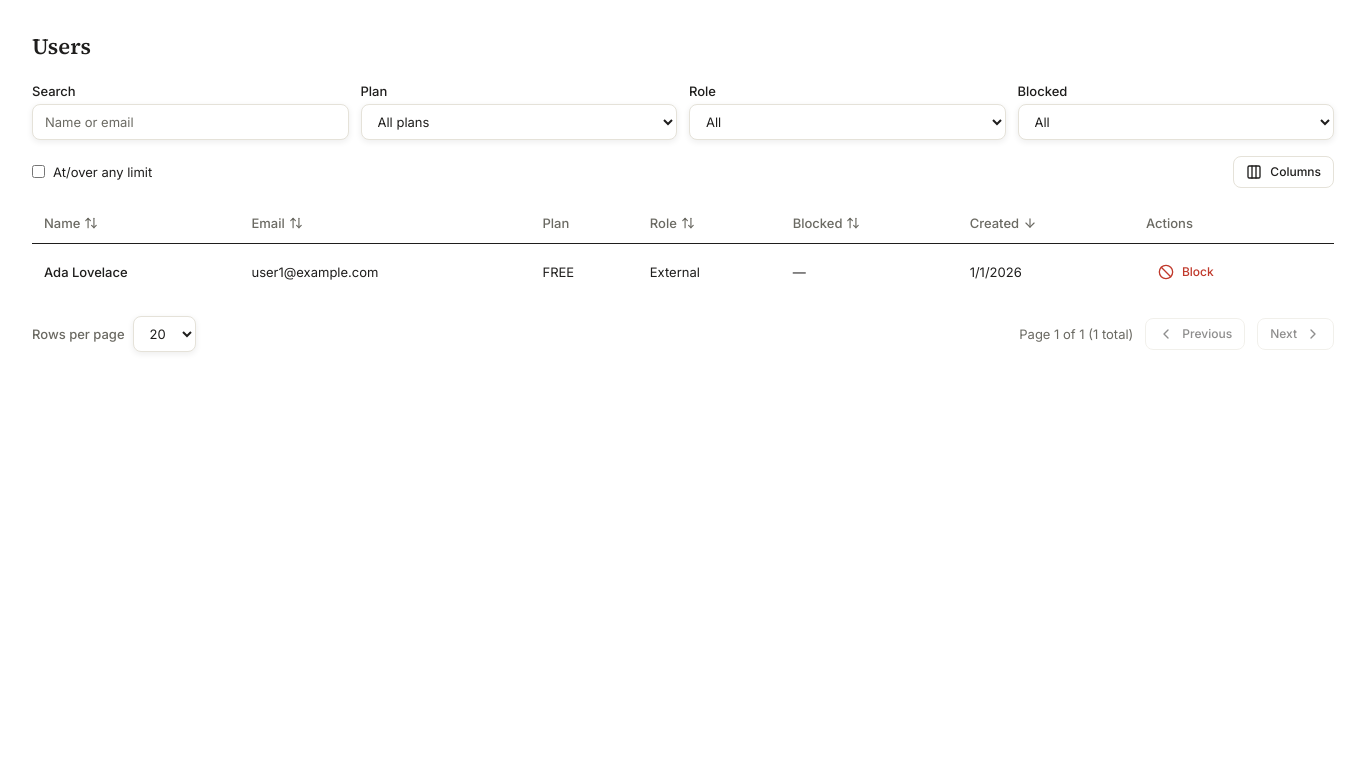
Test: AdminUsersPage › shows the audit history tab with resolved actor info
Click the text "Ada Lovelace". click: (86, 272)
box: x1=32 y1=244 x2=240 y2=300
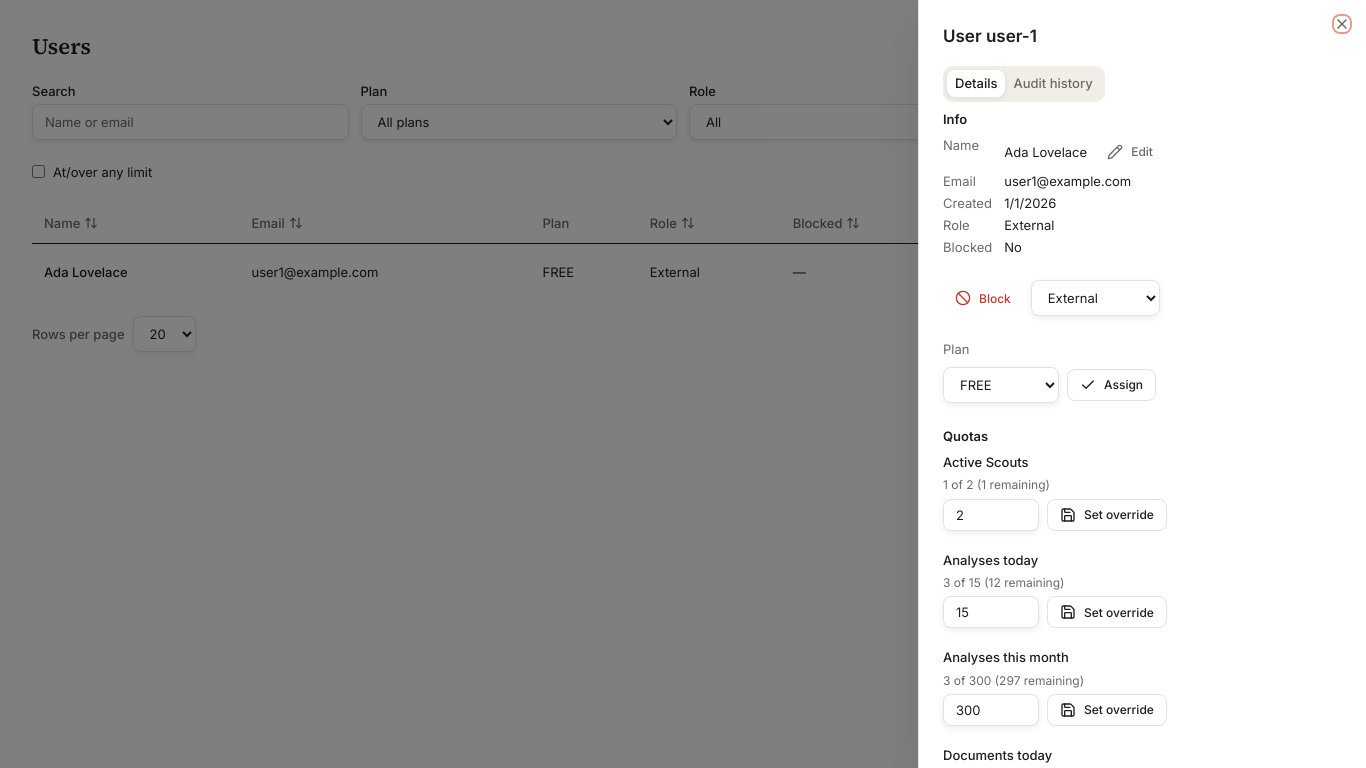
Click the tab "Audit history". click: (1053, 84)
box: x1=1006 y1=70 x2=1101 y2=97
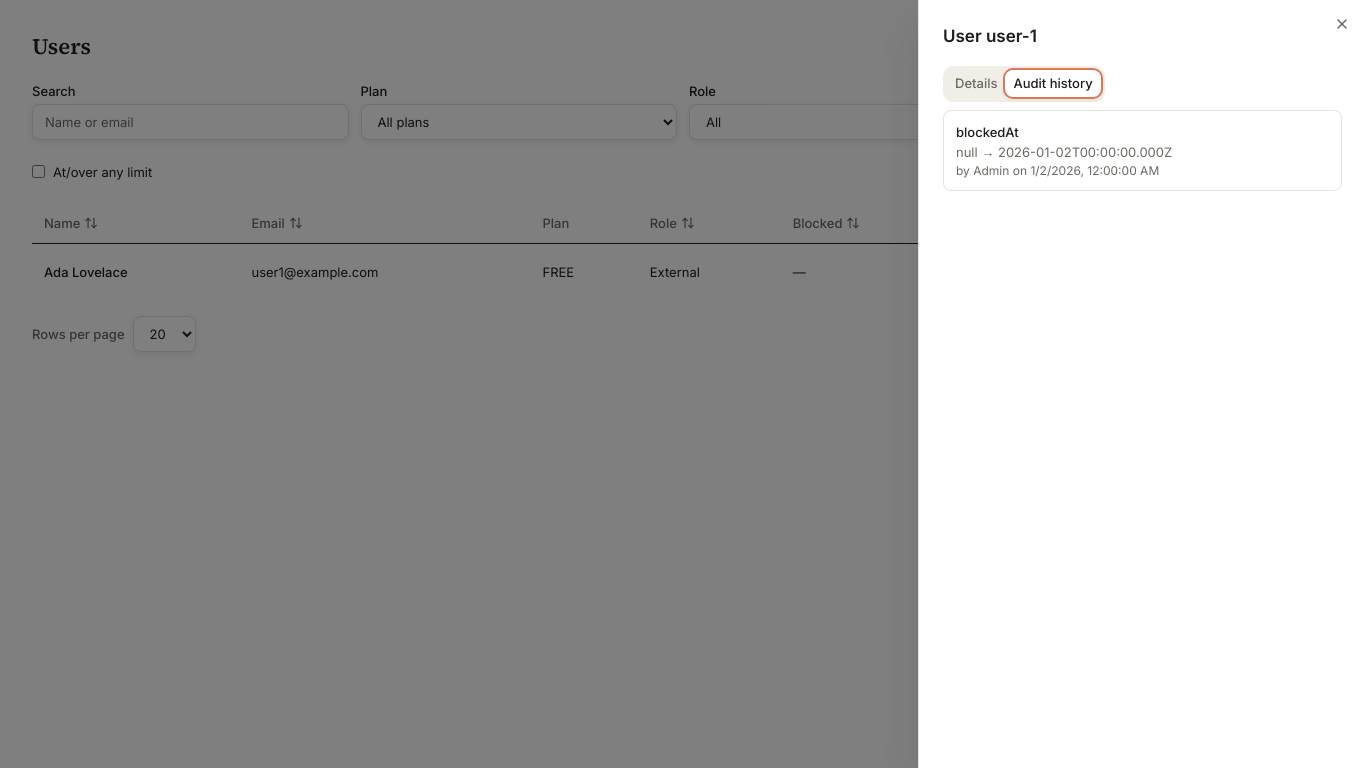
Expected: the text "blockedAt" is shown, x1=956 y1=124 x2=1019 y2=140
Expected: the text "by Admin on 1/2/2026, 12:00:00 AM" is shown, x1=956 y1=163 x2=1159 y2=178
